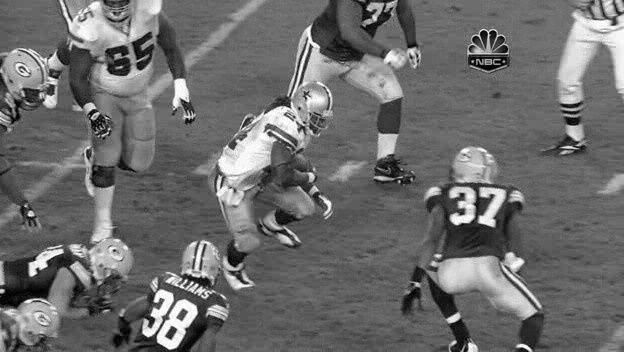person: (294, 85, 330, 131), (293, 85, 329, 131), (295, 85, 331, 131), (294, 84, 330, 130), (294, 86, 330, 132)
target_negative: (25, 32, 334, 255), (212, 208, 567, 302), (18, 164, 206, 294), (216, 143, 335, 210), (472, 203, 479, 292)
